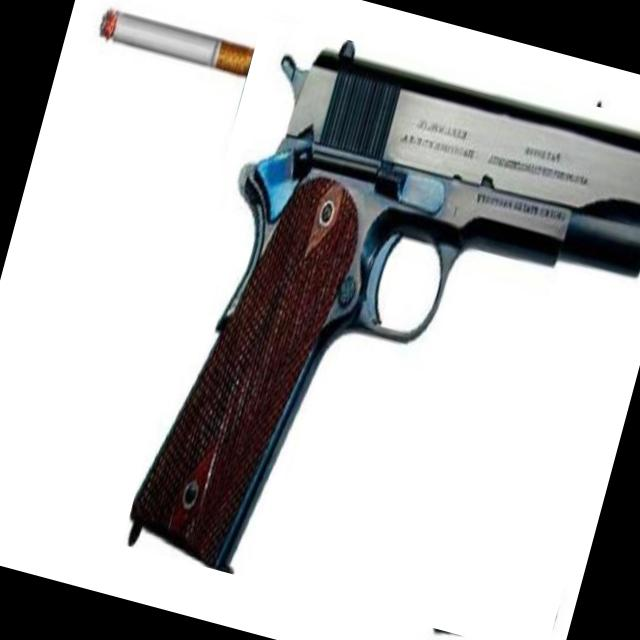Gun: (131, 41, 640, 572)
